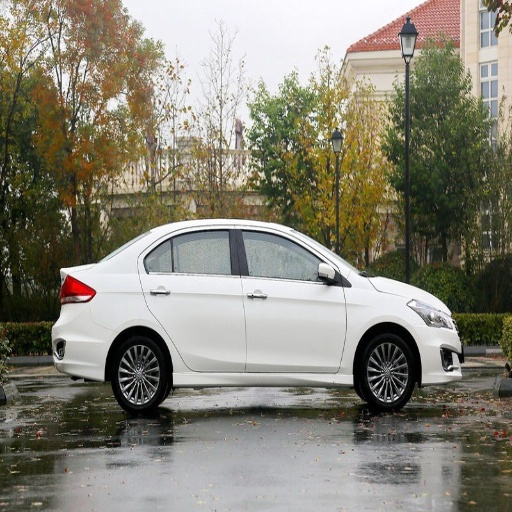back_right_door: (140, 227, 246, 371)
front_right_door: (237, 228, 346, 370)
